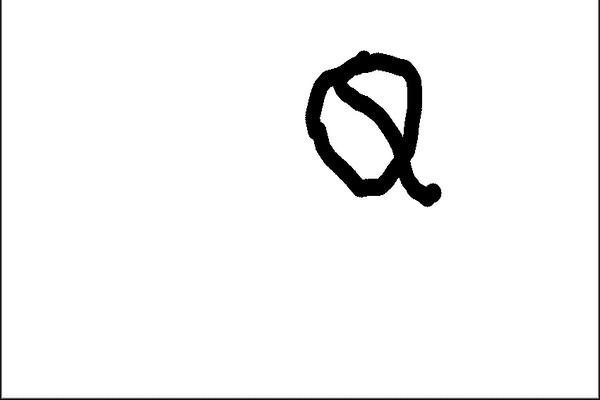Q: (293, 43, 450, 207)
